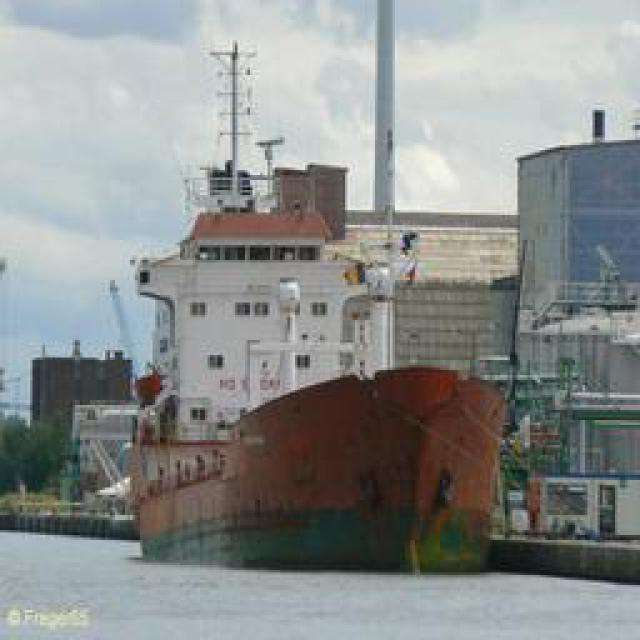Ship: (125, 364, 528, 574)
